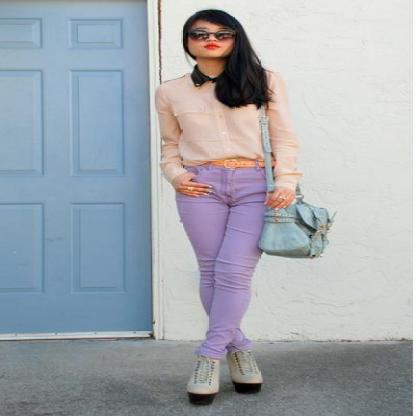bag: (247, 108, 335, 259)
pants: (175, 161, 284, 356)
shirt: (150, 65, 302, 190)
shoe: (187, 342, 265, 406)
